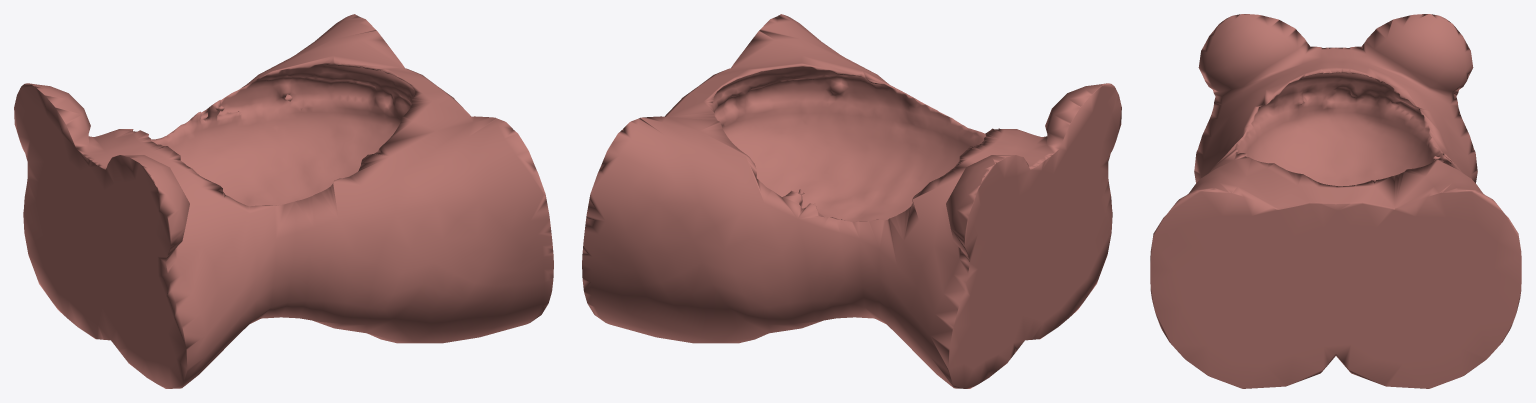
The model's file is abdomen.obj.
3 views of the same model, side by side, from view 1: azimuth 30°, elevation 25°; view 2: azimuth 150°, elevation 25°; view 3: azimuth 270°, elevation 25° (orthographic). The views are drawn at different scales.
Parts seen in each view (by area): view 1: abdomen_original; view 2: abdomen_original; view 3: abdomen_original.
Boxes of the visible parts, x1,y1,x2,y2 form: abdomen_original: [14, 14, 553, 388]; abdomen_original: [582, 14, 1121, 388]; abdomen_original: [1150, 14, 1521, 388].
Size of the model in its own units: 16.92 by 11.09 by 16.81.
